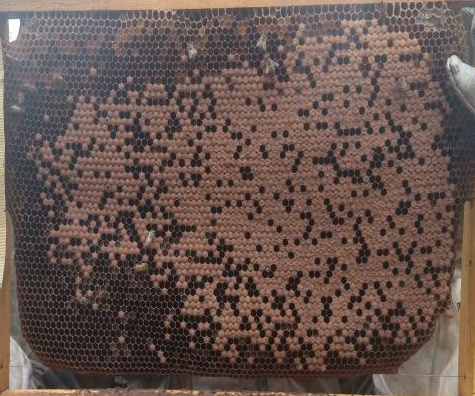cria: (17, 19, 457, 372)
